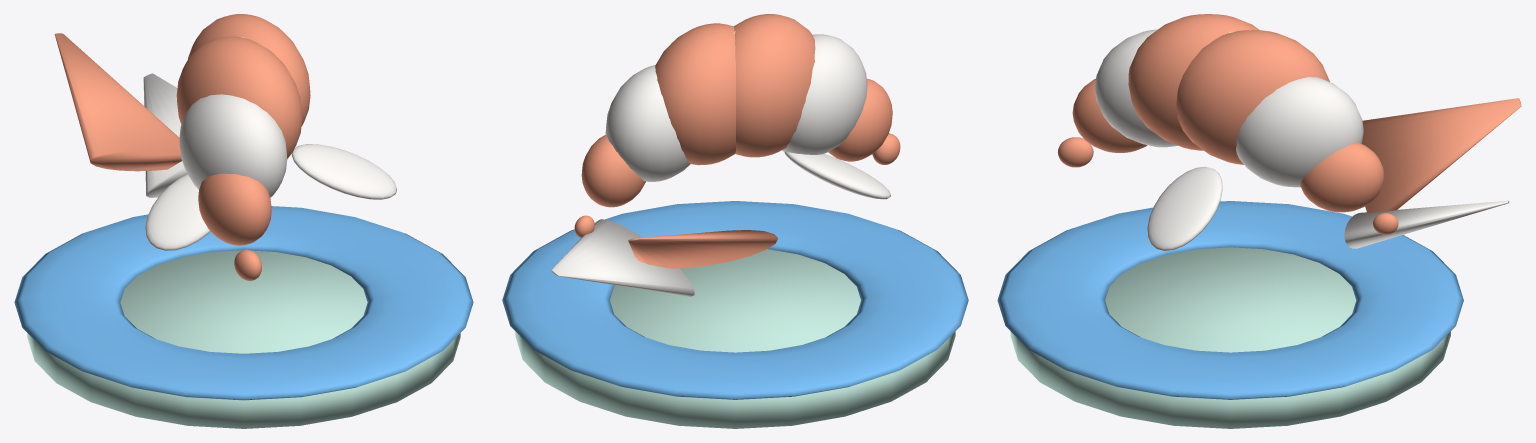
File: keepsake_koi.glb
3 renders of one model, left to right at view 1: azimuth 30°, elevation 25°; view 2: azimuth 150°, elevation 25°; view 3: azimuth 270°, elevation 25°, orthographic.
Visible parts, largest first — view 1: Keepsake_Koi; view 2: Keepsake_Koi; view 3: Keepsake_Koi.
Boxes of the visible parts, left/top/right/bottom form: Keepsake_Koi: left=14, top=14, right=473, bottom=428; Keepsake_Koi: left=502, top=14, right=968, bottom=428; Keepsake_Koi: left=997, top=14, right=1521, bottom=428.
Size of the model in its own units: 1.43 by 1.05 by 1.61.
